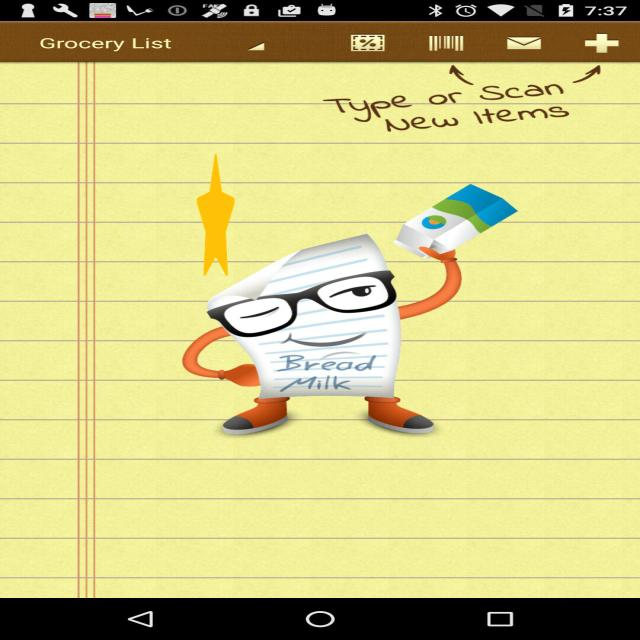forced continuity: (197, 154, 234, 276)
